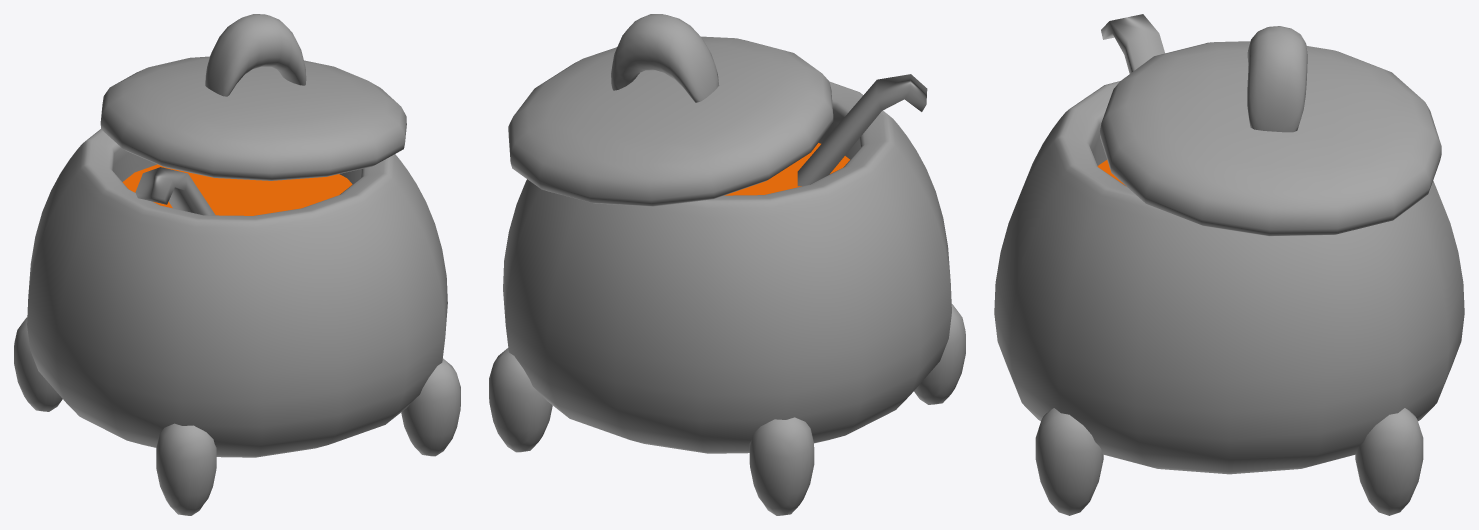
The model's file is caldero.fbx.
The picture shows the model from 3 angles, left to right: view 1: azimuth 30°, elevation 25°; view 2: azimuth 150°, elevation 25°; view 3: azimuth 270°, elevation 25°; orthographic projection. The views are drawn at different scales.
Visible parts, largest first — view 1: Cube.011, Cube, Plane, Cube.012; view 2: Cube.011, Cube, Cube.012, Plane; view 3: Cube.011, Cube, Cube.012.
Boxes of the visible parts, box(x1,y1,x2,y2) form: Cube.011: box(14, 129, 460, 515); Cube: box(100, 14, 406, 180); Plane: box(122, 164, 352, 215); Cube.012: box(135, 167, 215, 215); Cube.011: box(489, 82, 965, 515); Cube: box(508, 14, 833, 206); Cube.012: box(797, 74, 927, 186); Plane: box(724, 143, 849, 195); Cube.011: box(994, 81, 1464, 515); Cube: box(1100, 26, 1441, 236); Cube.012: box(1101, 14, 1164, 73).
Size of the model in its own units: 224 by 232 by 224.
